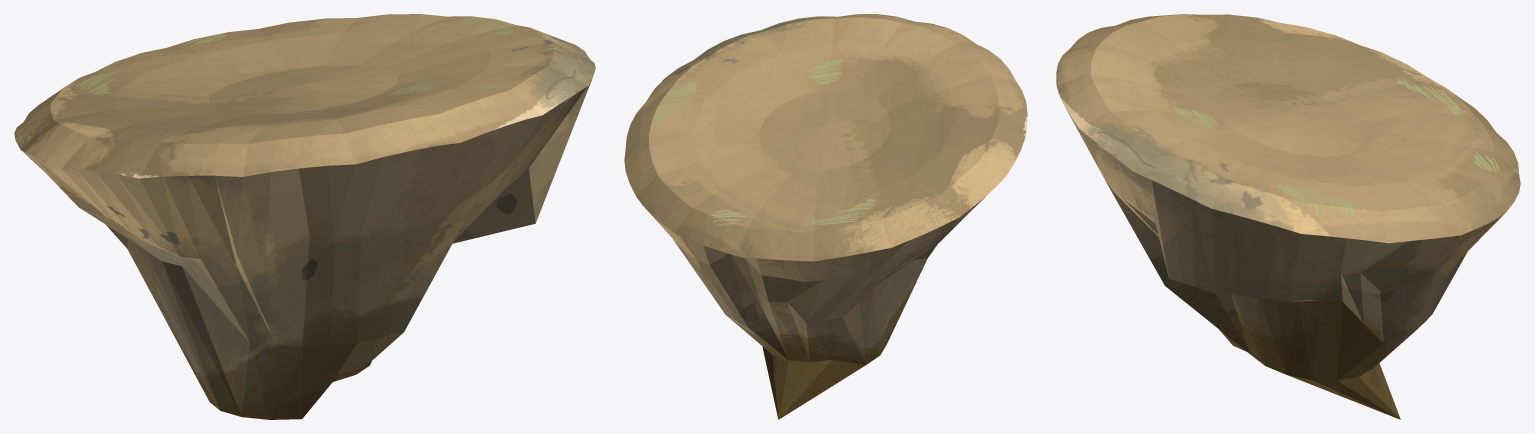
The model's file is island_slope.obj.
The picture shows the model from 3 angles, left to right: view 1: azimuth 30°, elevation 25°; view 2: azimuth 150°, elevation 25°; view 3: azimuth 270°, elevation 25°; orthographic projection. The views are drawn at different scales.
Parts seen in each view (by area): view 1: FloatingIslandSlant; view 2: FloatingIslandSlant; view 3: FloatingIslandSlant.
Boxes of the visible parts, left/top/right/bottom form: FloatingIslandSlant: left=14, top=14, right=595, bottom=419; FloatingIslandSlant: left=624, top=14, right=1027, bottom=419; FloatingIslandSlant: left=1056, top=14, right=1520, bottom=419.
Size of the model in its own units: 3.5 by 2.85 by 3.4.
Materials: 1 (1 with a texture image).
